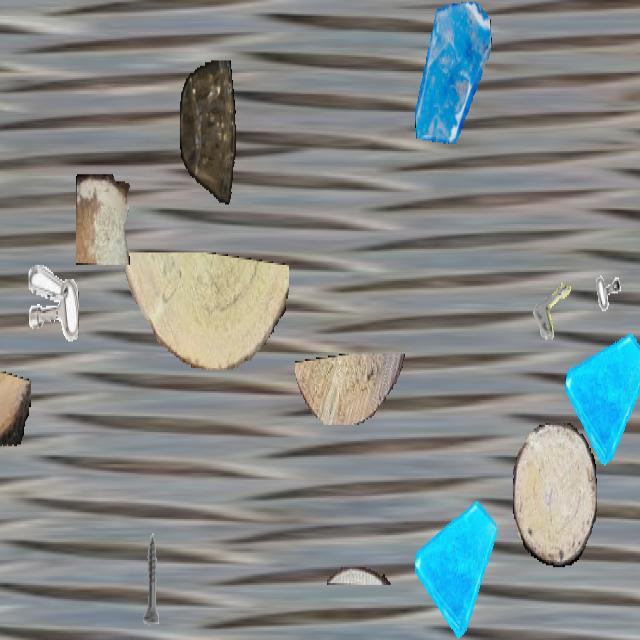glass: (415, 492, 497, 638), (413, 2, 493, 144), (565, 320, 640, 466)
metal: (529, 251, 589, 357), (124, 530, 178, 626), (583, 268, 633, 358), (28, 262, 78, 351)
plastic: (180, 60, 236, 206)
wood: (118, 252, 288, 370), (513, 423, 597, 565), (295, 354, 407, 425), (76, 174, 130, 263), (0, 359, 30, 452), (327, 567, 391, 585)
